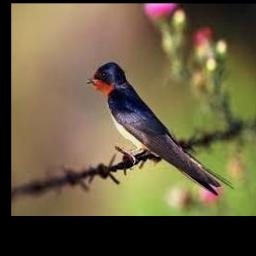Swallow: (86, 63, 235, 196)
